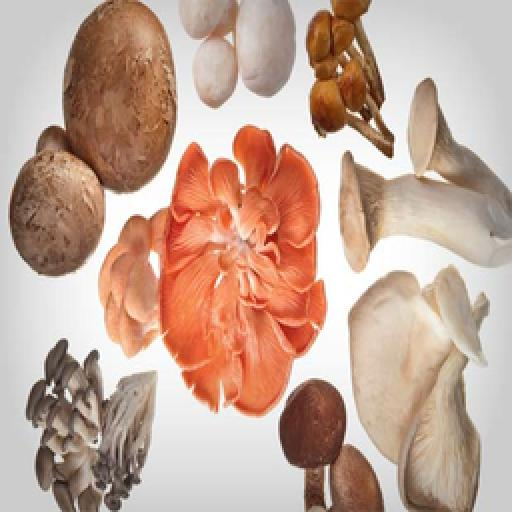mushrooms: (96, 124, 328, 422), (346, 266, 492, 512), (336, 76, 512, 274), (24, 336, 160, 512), (60, 0, 180, 192), (8, 122, 108, 278), (278, 376, 386, 512), (306, 0, 396, 160), (178, 0, 298, 108)
